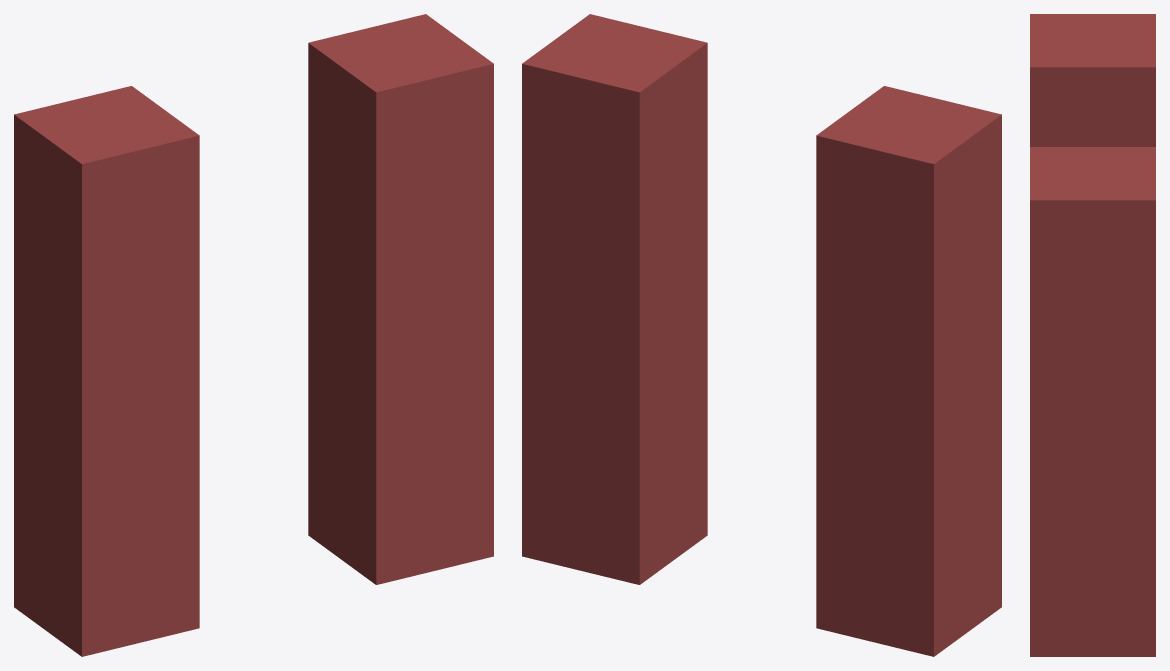
Rendered from legendario_piernas_bandido_01.glb.
The picture shows the model from 3 angles, left to right: view 1: azimuth 30°, elevation 25°; view 2: azimuth 150°, elevation 25°; view 3: azimuth 270°, elevation 25°; orthographic projection. The views are drawn at different scales.
Parts seen in each view (by area): view 1: legendario_piernas_bandido; view 2: legendario_piernas_bandido; view 3: legendario_piernas_bandido.
Part boxes in pixels (left/top/right/bottom): legendario_piernas_bandido: left=14, top=14, right=493, bottom=656; legendario_piernas_bandido: left=522, top=14, right=1001, bottom=656; legendario_piernas_bandido: left=1030, top=14, right=1155, bottom=656.
Size of the model in its own units: 0.5833 by 0.6667 by 0.1667.
